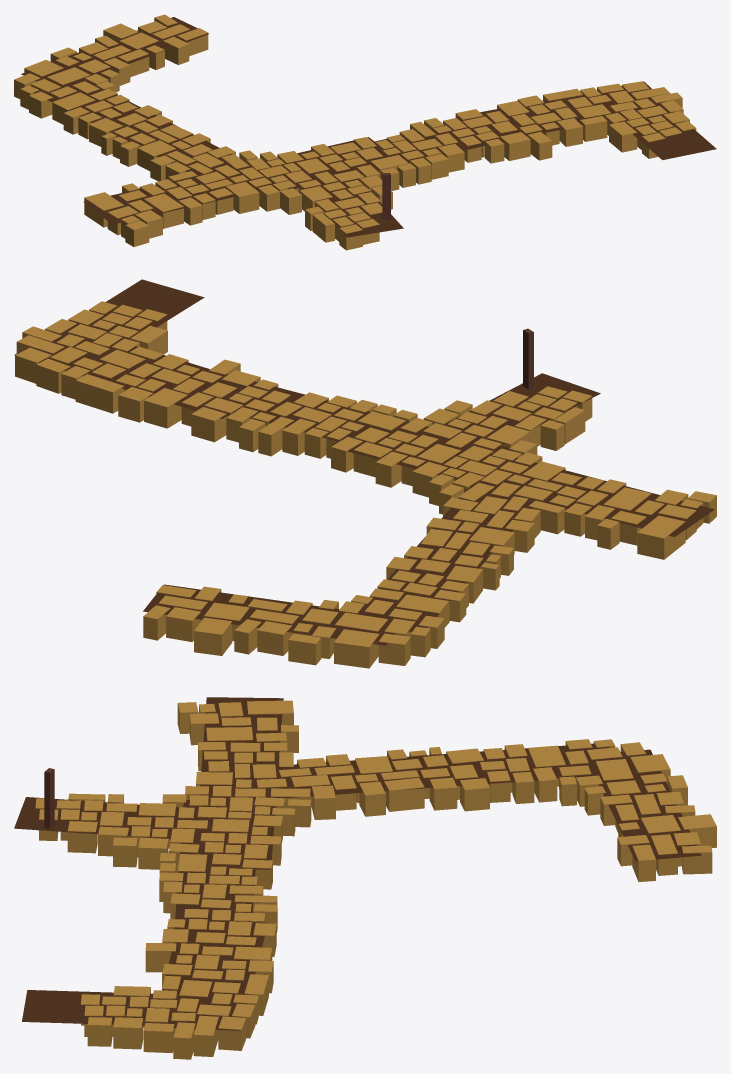
File: tiles.glb
3 views of the same model, one above another, from view 1: azimuth 30°, elevation 25°; view 2: azimuth 150°, elevation 25°; view 3: azimuth 270°, elevation 25° (orthographic). The views are drawn at different scales.
Visible parts, largest first — view 1: Plane.010, Plane.012, Plane.014, Plane.011, Plane.013, Plane.016, Plane.015, Cube.195, Cube.178, Cube.255, Cube.229, Cube.205 (+31 smaller); view 2: Plane.010, Plane.012, Plane.011, Plane.016, Plane.014, Plane.013, Plane.015, Cube.205, Cube.301, Cube.240, Cube.312, Cube.227 (+34 smaller); view 3: Plane.010, Plane.012, Plane.014, Plane.016, Plane.013, Plane.011, Plane.015, Cube.282, Cube.248, Cube.130, Cube.233, Cube.283 (+29 smaller).
Part boxes in pixels (box(x1,y1,x2,y2)): Plane.010: box(83, 137, 390, 224); Plane.012: box(33, 78, 254, 183); Plane.014: box(457, 81, 666, 143); Plane.011: box(280, 116, 536, 189); Plane.013: box(21, 17, 208, 90); Plane.016: box(619, 110, 716, 160); Plane.015: box(302, 178, 403, 237); Cube.195: box(144, 193, 183, 228); Cube.178: box(226, 181, 259, 213); Cube.255: box(609, 121, 637, 152); Cube.229: box(500, 132, 530, 160); Cube.205: box(84, 192, 124, 227); Plane.010: box(329, 423, 714, 536); Plane.012: box(357, 481, 548, 631); Plane.011: box(174, 368, 514, 474); Plane.016: box(55, 279, 204, 354); Plane.014: box(14, 327, 272, 418); Plane.013: box(143, 584, 395, 645); Plane.015: box(443, 373, 600, 447); Cube.205: box(637, 515, 685, 559); Cube.301: box(334, 629, 379, 668); Cube.240: box(75, 374, 124, 413); Cube.312: box(194, 617, 232, 655); Cube.227: box(144, 388, 187, 428); Plane.010: box(195, 697, 283, 869); Plane.012: box(250, 743, 614, 798); Plane.014: box(153, 918, 267, 1030); Plane.016: box(22, 990, 193, 1025); Plane.013: box(586, 749, 701, 861); Plane.011: box(172, 800, 258, 954); Plane.015: box(14, 797, 183, 839); Cube.282: box(384, 777, 424, 811); Cube.248: box(113, 1017, 143, 1049); Cube.130: box(67, 821, 97, 853); Cube.233: box(193, 1015, 218, 1056); Cube.283: box(460, 778, 489, 811).
Bounding box in the file's own units: 68.64 × 7.21 × 59.67.
